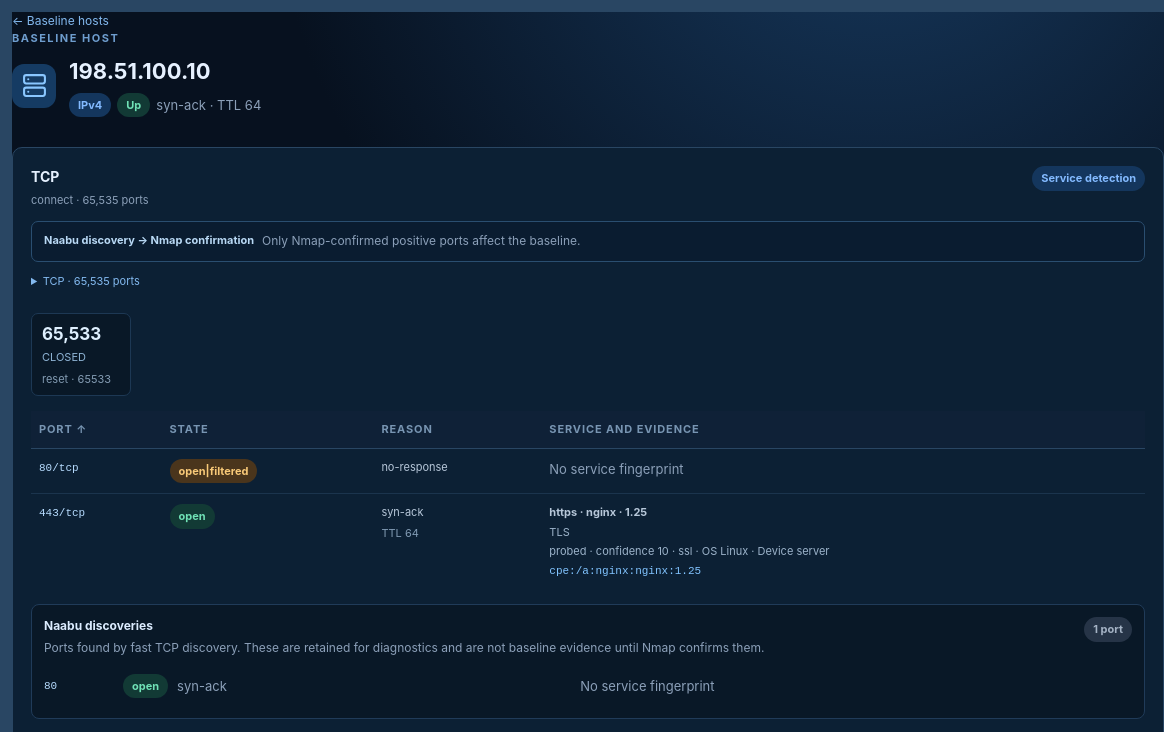
it: host detail › renders identity, RDAP, scanner provenance, service evidence, and sortable ports
Click the button with aria-label "Sort by state": (189, 429) [170, 419, 209, 440]
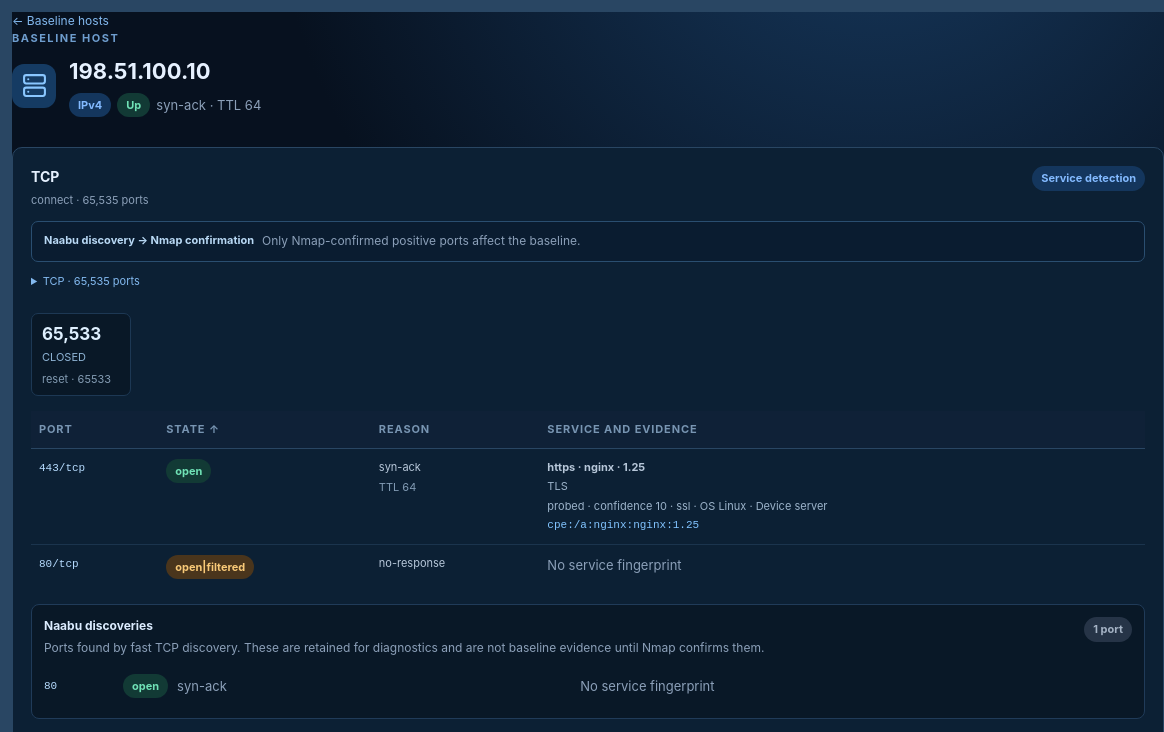
Now the button with aria-label "Sort by state" shows "↑"
Click the button with aria-label "Sort by state": (193, 429) [166, 419, 220, 440]
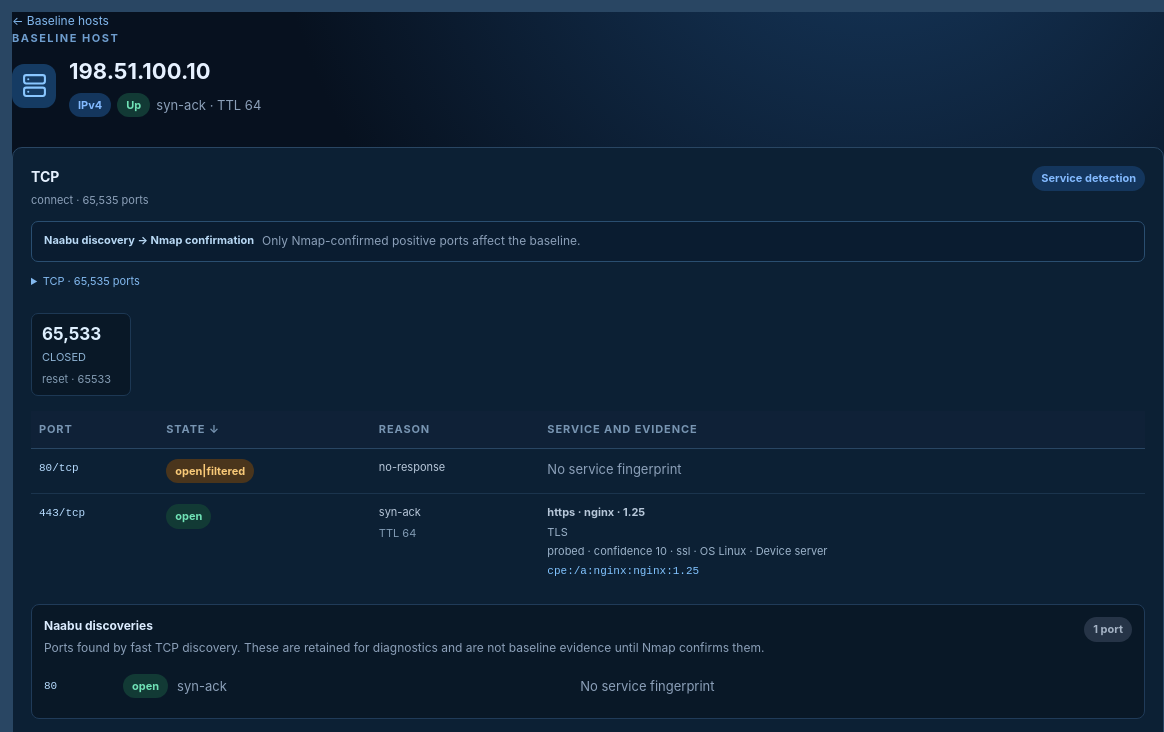
Now the button with aria-label "Sort by state" shows "↓", box [166, 419, 220, 440]
Click the button with aria-label "Sort by service and evidence": (622, 429) [547, 419, 698, 440]
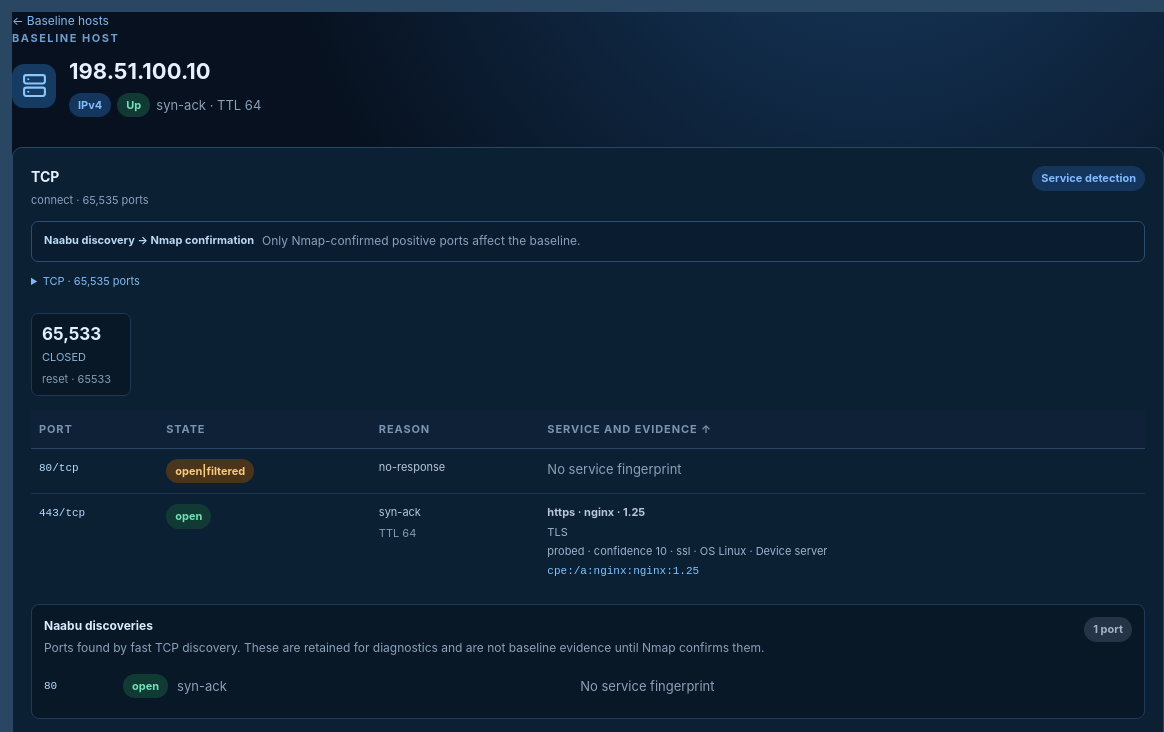
Now the button with aria-label "Sort by service and evidence" shows "↑", box [547, 419, 712, 440]
